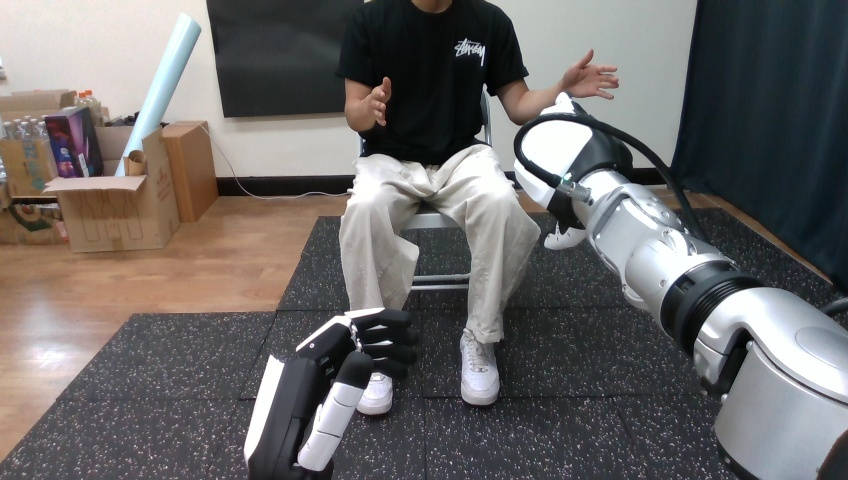left robot hand: (514, 93, 847, 478), (244, 308, 417, 478), (557, 49, 618, 99)
